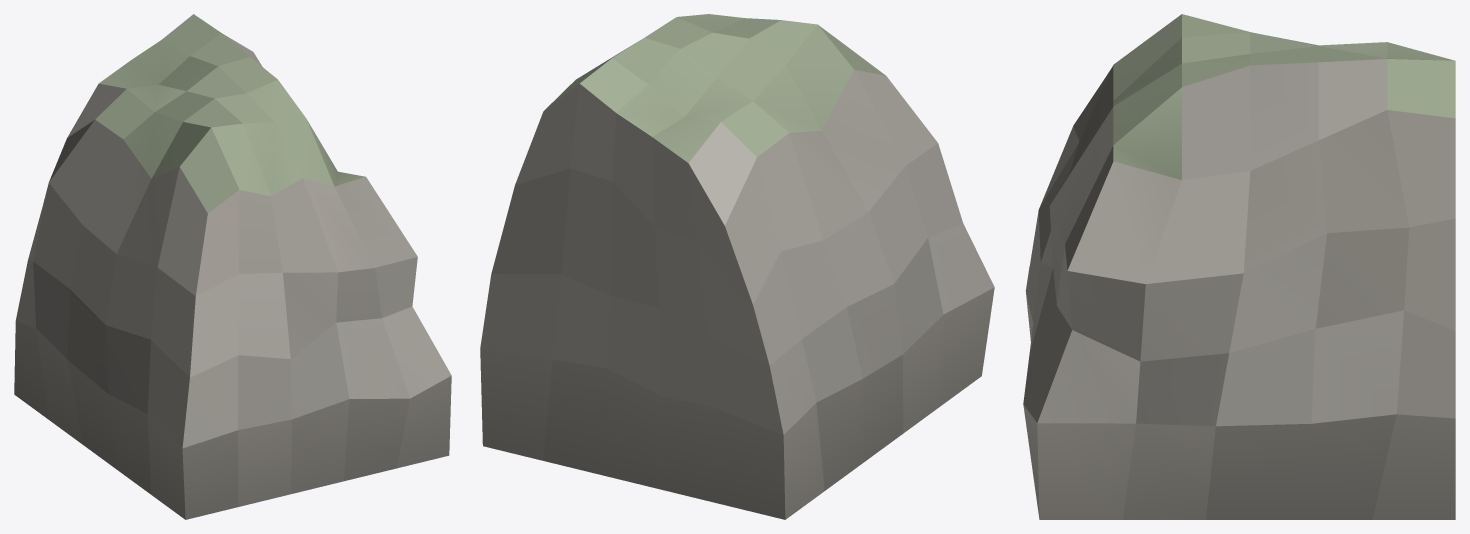
File: roca_punta_3.glb
3 renders of one model, left to right at view 1: azimuth 30°, elevation 25°; view 2: azimuth 150°, elevation 25°; view 3: azimuth 270°, elevation 25°, orthographic. The views are drawn at different scales.
Parts seen in each view (by area): view 1: propforge-cuartos-roca_punta; view 2: propforge-cuartos-roca_punta; view 3: propforge-cuartos-roca_punta.
Part boxes in pixels (x1=…): propforge-cuartos-roca_punta: x1=14, y1=14, x2=451, y2=519; propforge-cuartos-roca_punta: x1=480, y1=14, x2=994, y2=519; propforge-cuartos-roca_punta: x1=1023, y1=14, x2=1455, y2=519.
Size of the model in its own units: 0.8558 by 0.9805 by 0.935.
